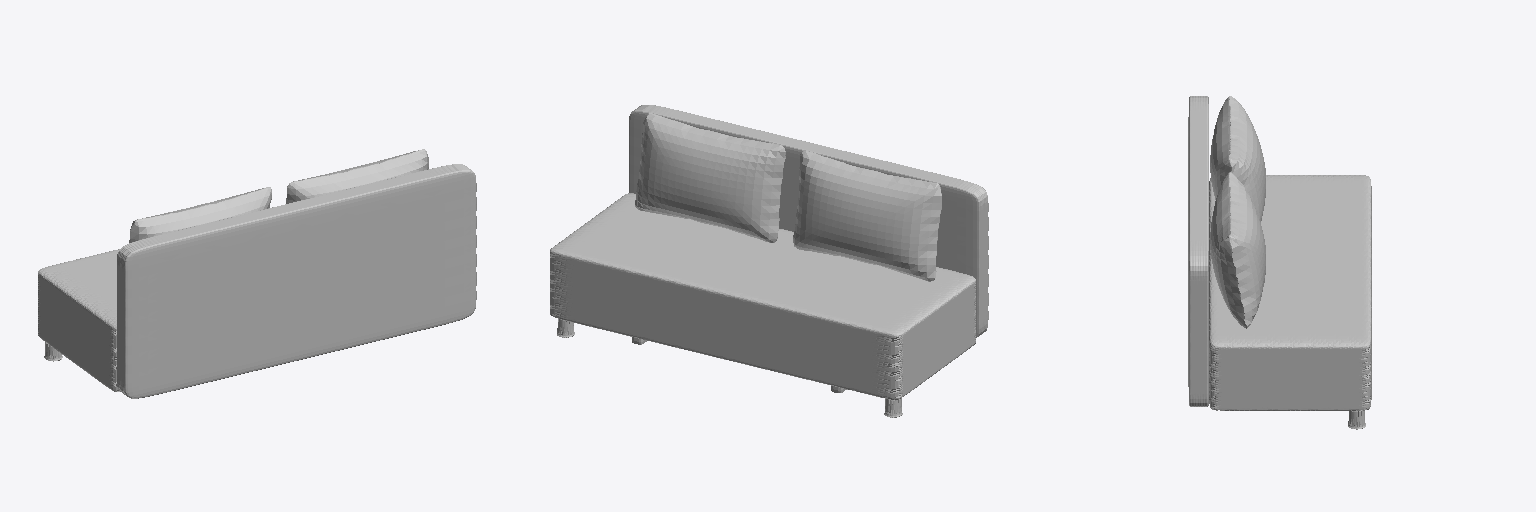
File: Парма.obj
The picture shows the model from 3 angles: view 1: azimuth 30°, elevation 25°; view 2: azimuth 150°, elevation 25°; view 3: azimuth 270°, elevation 25°; orthographic projection.
Visible parts, largest first — view 1: Куб, Cube, Куб.002_Куб.004, Куб.004_Куб.002; view 2: Cube, Куб.004_Куб.002, Куб.002_Куб.004, Куб, Цилиндр; view 3: Cube, Куб, Куб.002_Куб.004, Куб.004_Куб.002.
Boxes of the visible parts, x1=… form: Куб: x1=117, y1=164, x2=476, y2=398; Cube: x1=38, y1=249, x2=119, y2=391; Куб.002_Куб.004: x1=286, y1=149, x2=428, y2=203; Куб.004_Куб.002: x1=129, y1=187, x2=271, y2=242; Cube: x1=550, y1=193, x2=975, y2=399; Куб.004_Куб.002: x1=793, y1=151, x2=941, y2=281; Куб.002_Куб.004: x1=635, y1=113, x2=785, y2=242; Куб: x1=629, y1=105, x2=988, y2=337; Цилиндр: x1=557, y1=319, x2=902, y2=417; Cube: x1=1209, y1=175, x2=1371, y2=410; Куб: x1=1188, y1=96, x2=1208, y2=406; Куб.002_Куб.004: x1=1210, y1=172, x2=1265, y2=328; Куб.004_Куб.002: x1=1210, y1=96, x2=1265, y2=221.
Size of the model in its own units: 3.9 by 1.91 by 1.76.